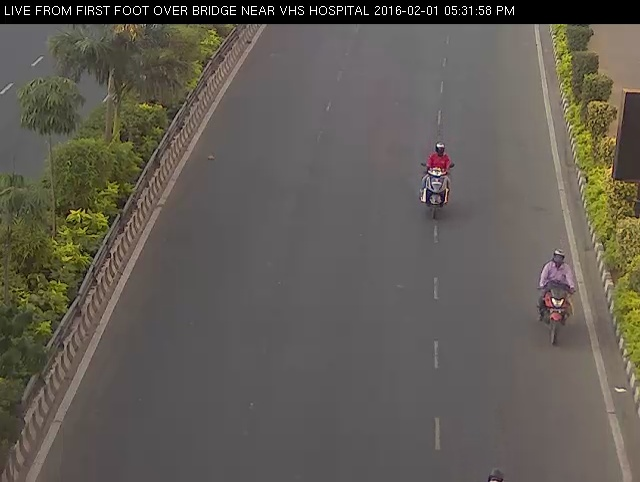Person: (533, 244, 583, 356), (413, 135, 460, 226)
